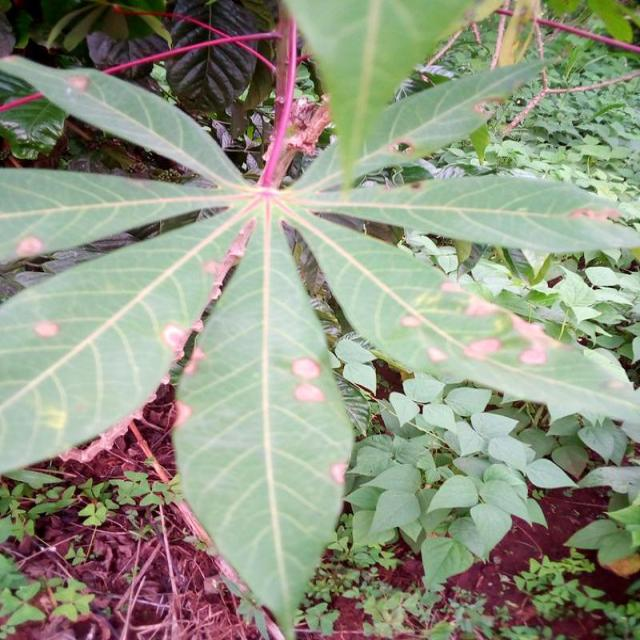cassava leaf: (0, 0, 638, 638), (170, 196, 354, 638)
